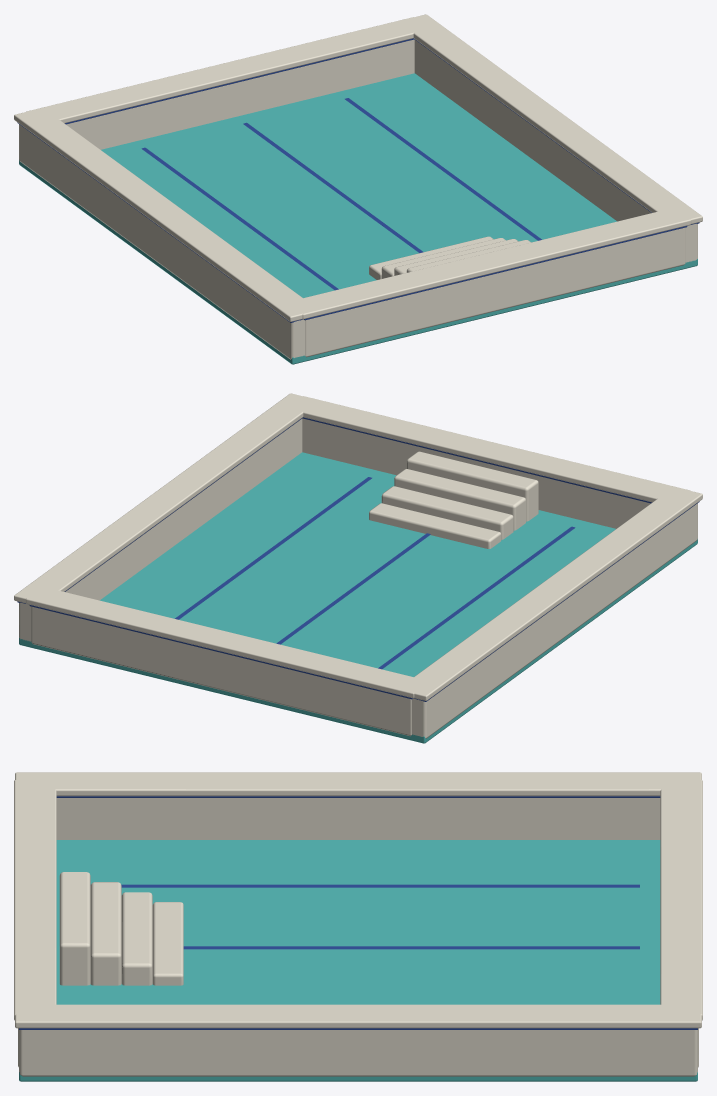
Rendered from pool.glb.
3 renders of one model, top to bottom at view 1: azimuth 30°, elevation 25°; view 2: azimuth 150°, elevation 25°; view 3: azimuth 270°, elevation 25°, orthographic. The views are drawn at different scales.
Parts seen in each view (by area): view 1: BasinFloor, BasinEnd.001, BasinEnd, BasinSide, CopingRim, CopingRim.001, CopingEnd.001, CopingEnd, BasinSide.001, Lane, Lane.002, Lane.001 (+6 smaller); view 2: BasinFloor, BasinEnd, BasinSide, CopingRim, CopingRim.001, CopingEnd, CopingEnd.001, BasinSide.001, BasinEnd.001, EntryStep.003, EntryStep.002, EntryStep.001 (+6 smaller); view 3: BasinFloor, BasinSide.001, BasinSide, CopingRim.001, CopingRim, CopingEnd, CopingEnd.001, EntryStep.003, EntryStep.002, EntryStep.001, EntryStep, Lane (+3 smaller).
Part boxes in pixels (x1,y1,x2,y2): BasinFloor: (19,73,697,364); BasinEnd.001: (305,227,685,357); BasinEnd: (66,39,414,149); BasinSide: (19,124,304,359); CopingRim: (14,108,317,321); CopingRim.001: (402,14,702,224); CopingEnd.001: (288,208,691,319); CopingEnd: (26,17,428,123); BasinSide.001: (414,40,697,262); Lane: (141,147,338,290); Lane.002: (345,98,541,240); Lane.001: (243,122,423,253); BasinFloor: (19,452,697,743); BasinEnd: (31,606,411,736); BasinSide: (412,503,697,738); CopingRim: (399,487,702,700); CopingRim.001: (14,393,316,603); CopingEnd: (25,587,428,698); CopingEnd.001: (288,396,690,502); BasinSide.001: (19,419,302,641); BasinEnd.001: (302,418,650,528); EntryStep.003: (406,451,538,521); EntryStep.002: (394,469,525,530); EntryStep.001: (381,486,513,539); BasinFloor: (19,840,697,1081); BasinSide.001: (19,1030,697,1076); BasinSide: (56,798,660,839); CopingRim.001: (15,1004,701,1028); CopingRim: (15,772,701,796); CopingEnd: (660,780,702,1020); CopingEnd.001: (14,780,56,1020); EntryStep.003: (59,872,90,985); EntryStep.002: (90,882,121,985); EntryStep.001: (121,892,152,985); EntryStep: (152,902,183,985); Lane: (121,884,639,887).
Bounding box in the file's own units: 6.1 × 0.71 × 7.1.
